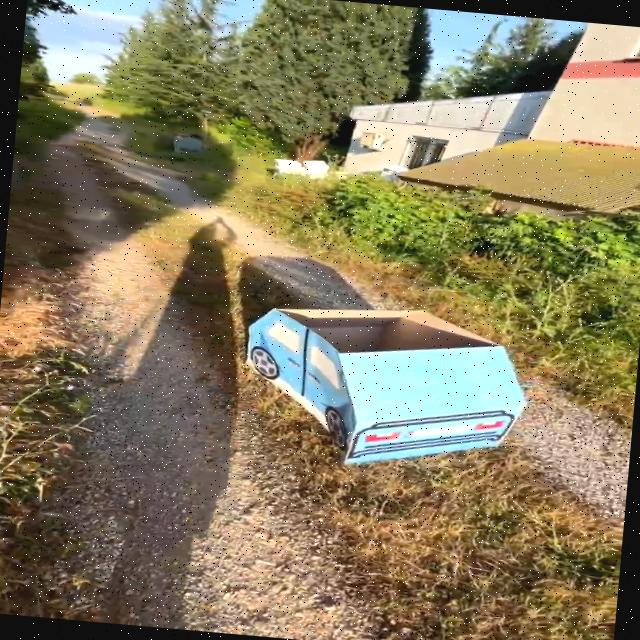blue_car: (189, 282, 579, 506)
